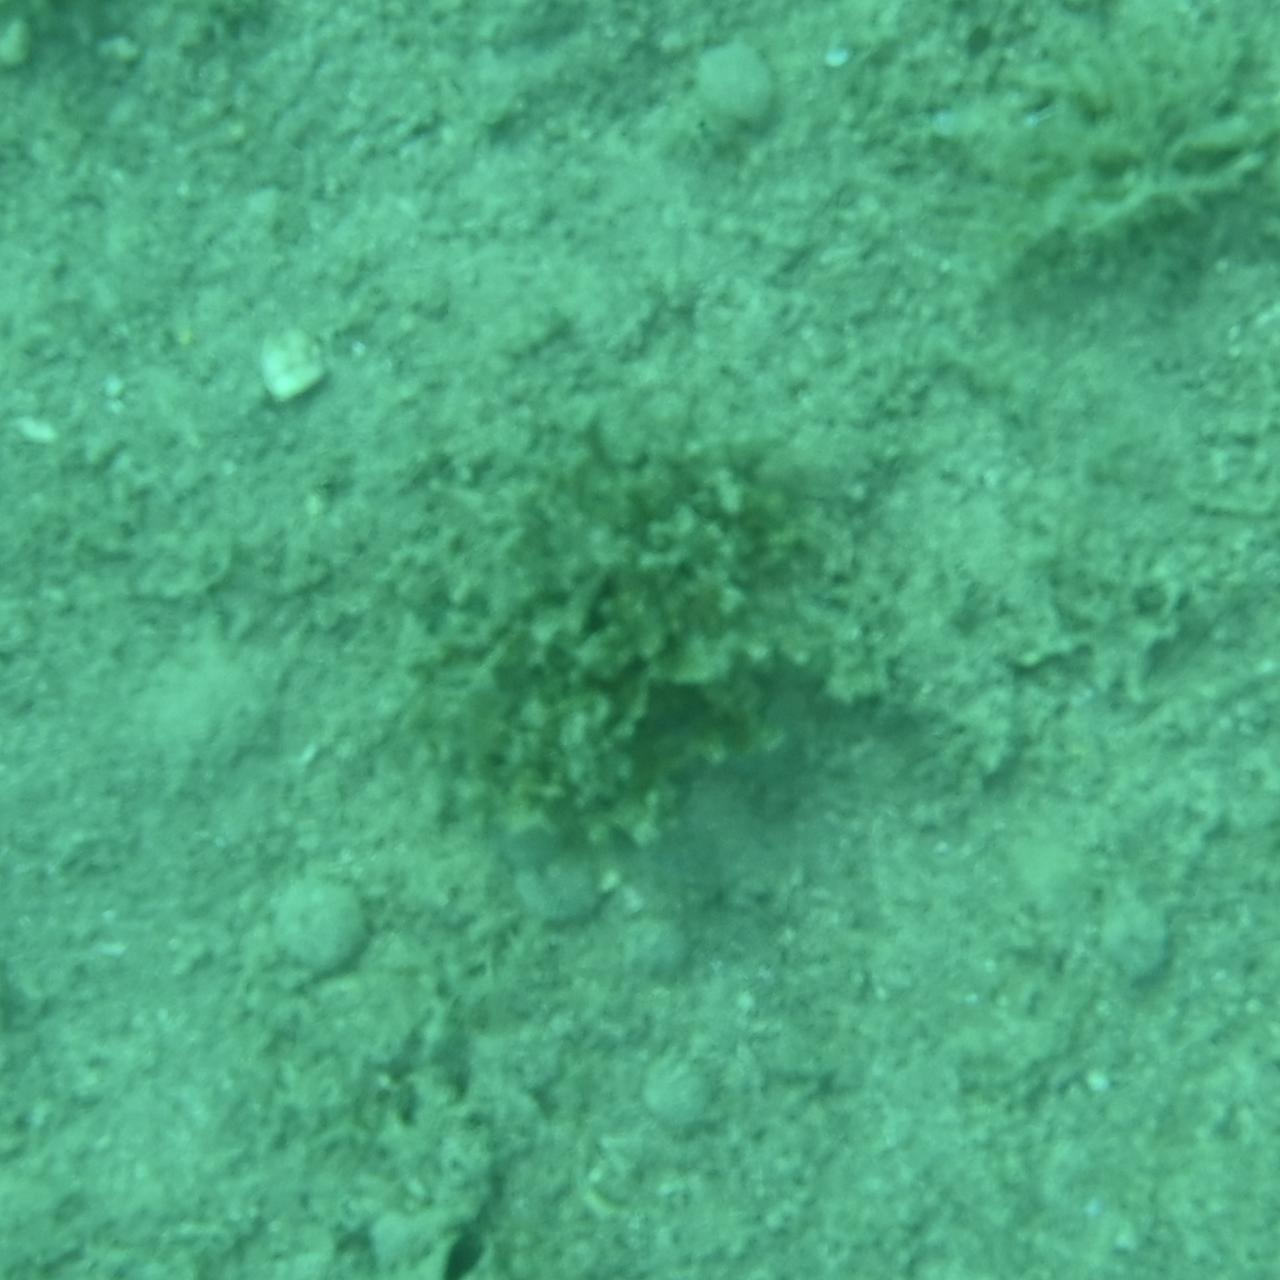Phaeophyceae -cfr Cystoseira-: (411, 424, 869, 856)
